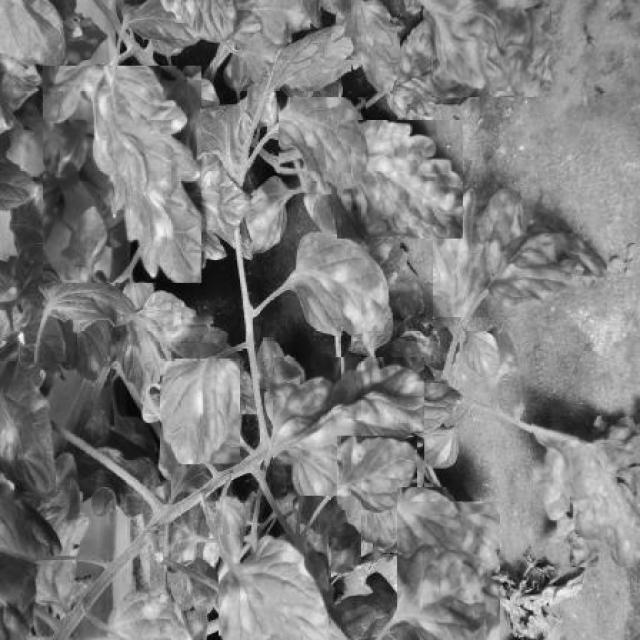Leaf Mold: (43, 65, 201, 284), (433, 189, 607, 318), (273, 357, 424, 496), (531, 416, 640, 568), (338, 120, 463, 239), (397, 501, 500, 640), (218, 534, 328, 640), (432, 0, 552, 97), (295, 231, 389, 336), (278, 98, 366, 195), (160, 359, 240, 465), (337, 436, 417, 511), (344, 0, 401, 96), (397, 488, 464, 559)
